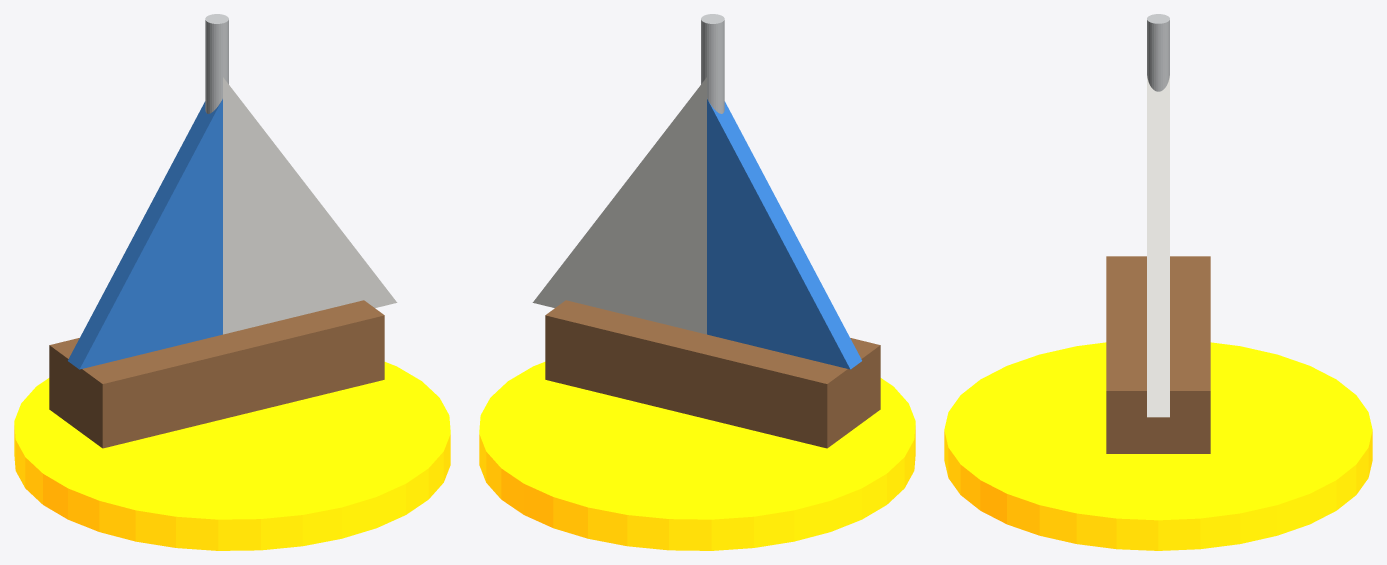
File: spanish_sailboat.glb
3 views of the same model, side by side, from view 1: azimuth 30°, elevation 25°; view 2: azimuth 150°, elevation 25°; view 3: azimuth 270°, elevation 25° (orthographic). The views are drawn at different scales.
Visible parts, largest first — view 1: 11_20_Popular_Spanish_Sailboat_ROOT_base, 11_20_Popular_Spanish_Sailboat_part_01, 11_20_Popular_Spanish_Sailboat_part_03, 11_20_Popular_Spanish_Sailboat_part_04, 11_20_Popular_Spanish_Sailboat_part_02; view 2: 11_20_Popular_Spanish_Sailboat_ROOT_base, 11_20_Popular_Spanish_Sailboat_part_01, 11_20_Popular_Spanish_Sailboat_part_03, 11_20_Popular_Spanish_Sailboat_part_04, 11_20_Popular_Spanish_Sailboat_part_02; view 3: 11_20_Popular_Spanish_Sailboat_ROOT_base, 11_20_Popular_Spanish_Sailboat_part_01, 11_20_Popular_Spanish_Sailboat_part_03, 11_20_Popular_Spanish_Sailboat_part_02.
Boxes of the visible parts, box(x1,y1,x2,y2) form: 11_20_Popular_Spanish_Sailboat_ROOT_base: box(14, 362, 450, 550); 11_20_Popular_Spanish_Sailboat_part_01: box(49, 300, 384, 448); 11_20_Popular_Spanish_Sailboat_part_03: box(223, 77, 397, 334); 11_20_Popular_Spanish_Sailboat_part_04: box(68, 99, 222, 369); 11_20_Popular_Spanish_Sailboat_part_02: box(205, 14, 228, 113); 11_20_Popular_Spanish_Sailboat_ROOT_base: box(479, 362, 915, 550); 11_20_Popular_Spanish_Sailboat_part_01: box(545, 300, 880, 448); 11_20_Popular_Spanish_Sailboat_part_03: box(532, 77, 706, 334); 11_20_Popular_Spanish_Sailboat_part_04: box(707, 99, 861, 369); 11_20_Popular_Spanish_Sailboat_part_02: box(701, 14, 724, 113); 11_20_Popular_Spanish_Sailboat_ROOT_base: box(944, 342, 1372, 550); 11_20_Popular_Spanish_Sailboat_part_01: box(1106, 256, 1210, 453); 11_20_Popular_Spanish_Sailboat_part_03: box(1147, 76, 1169, 417); 11_20_Popular_Spanish_Sailboat_part_02: box(1147, 14, 1169, 91).
Bounding box in the file's own units: 0.76 × 0.85 × 0.76.
